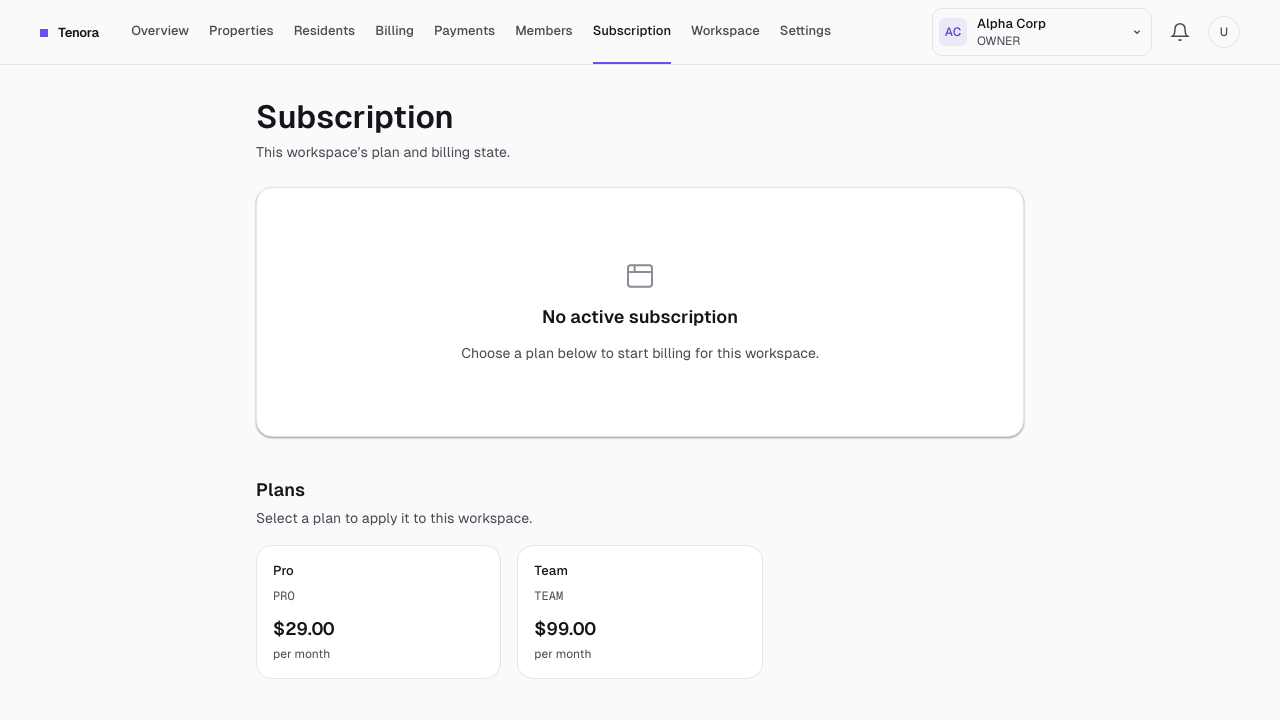
Test: SubscriptionPage — checkout (D2) › opens Razorpay Checkout (no local subscription created) when none exists yet
Expected: the heading "No active subscription" is shown, [542,304,738,330]
Click the radio button labelled "Pro PRO $29.00 per month": {"x": 379, "y": 612} [256,545,501,679]
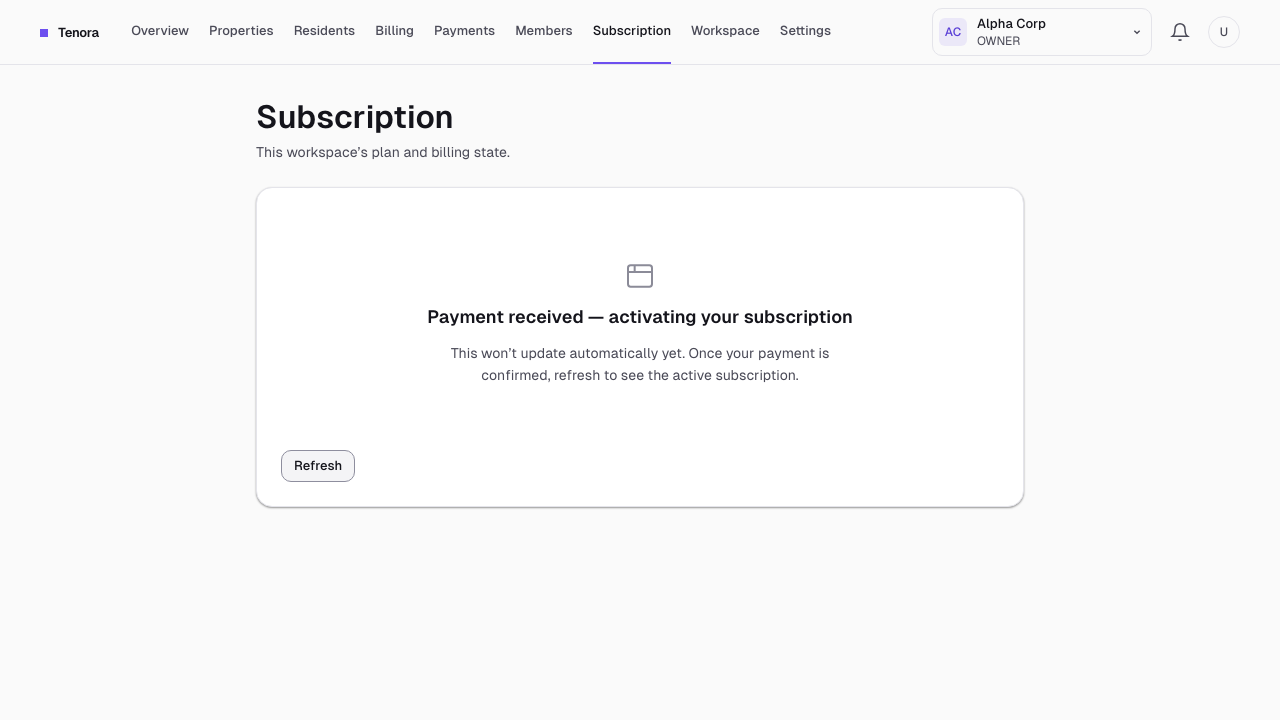
Expected: the text "Active" is not shown
Expected: the heading "Payment received — activating your subscription" is shown, [427,304,853,330]
